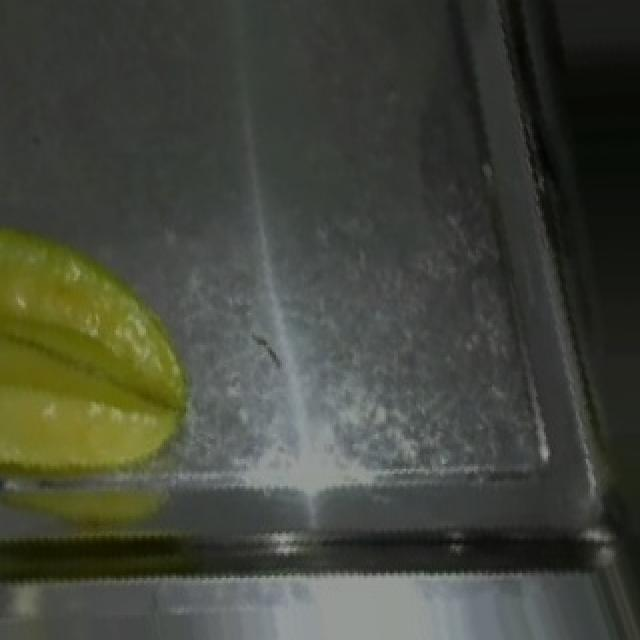fruit: (0, 201, 216, 518)
